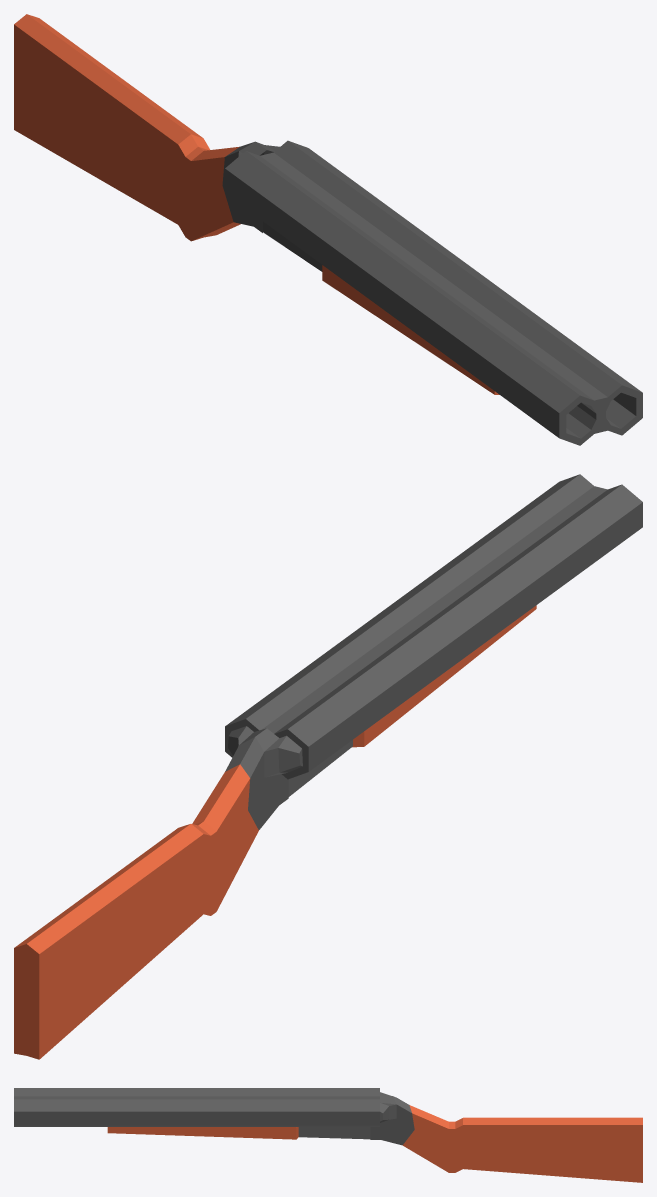
File: DoubleBarrelSG.fbx
3 views of the same model, one above another, from view 1: azimuth 30°, elevation 25°; view 2: azimuth 150°, elevation 25°; view 3: azimuth 270°, elevation 25° (orthographic). The views are drawn at different scales.
Parts seen in each view (by area): view 1: Cylinder, Cube; view 2: Cylinder, Cube; view 3: Cylinder, Cube.
Boxes of the visible parts, box(x1,y1,x2,y2) form: Cylinder: box(225, 140, 642, 445); Cube: box(14, 14, 279, 241); Cylinder: box(225, 474, 642, 796); Cube: box(14, 726, 302, 1059); Cylinder: box(14, 1088, 379, 1139); Cube: box(370, 1092, 642, 1182).
Size of the model in its own units: 347 by 623 by 4131.
